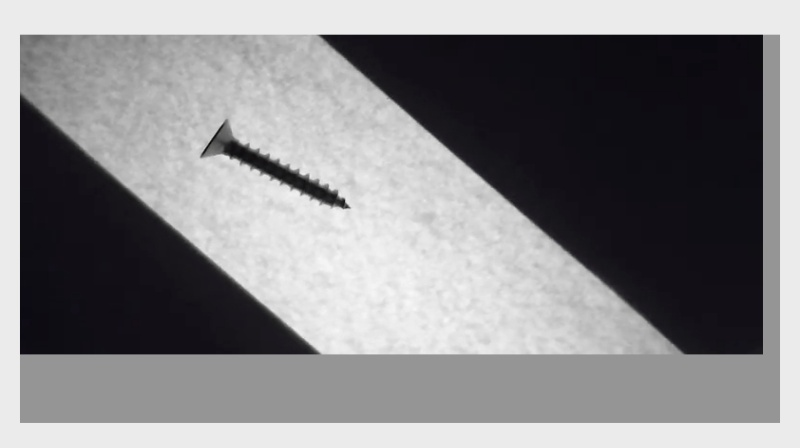S001: (193, 116, 354, 214)
